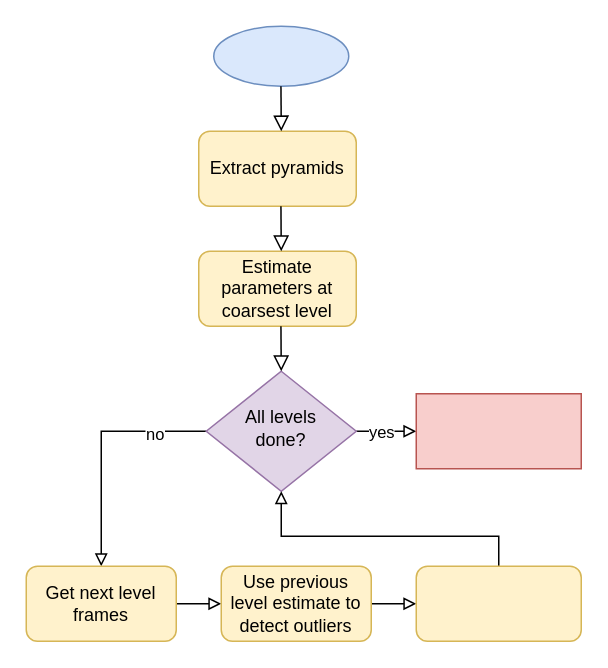
The diagram is 608 pixels wide and 668 high, and some of its shapes have lost their labels. The shapes that lost their labels are listed below. From the top down, each one's centre as x and y in pixels, then its label:
At [280,55]: "Load frames".
At [498,430]: "Return final parameters for motion model".
At [498,603]: "Update parameters for this level ignoring outliers".
